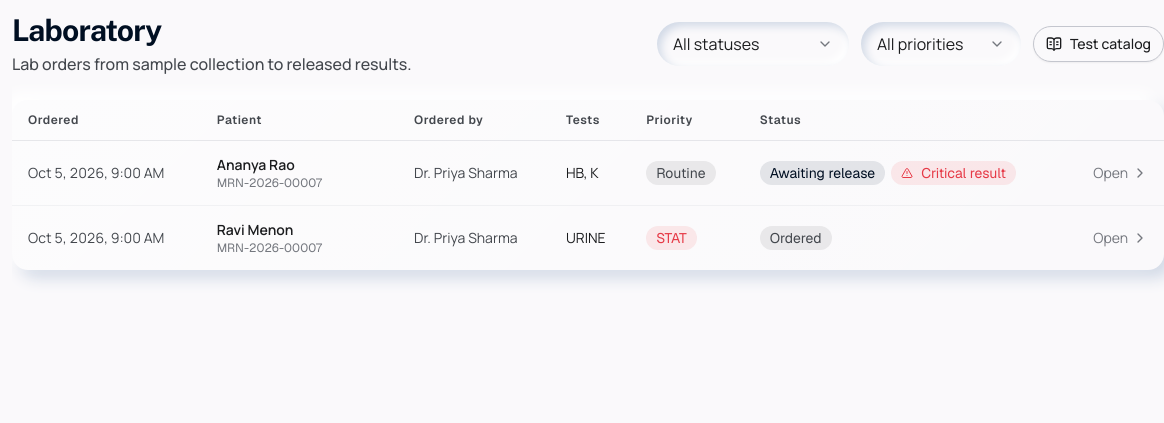
lab worklist › filters by status and by priority using the API's own parameters
This screenshot has width=1164, height=423.
Expected: the row "Ananya Rao" is shown, [12,140,1163,206]
Click the dropdown named "Filter by status".
click(753, 44)  # box [657,22,849,66]
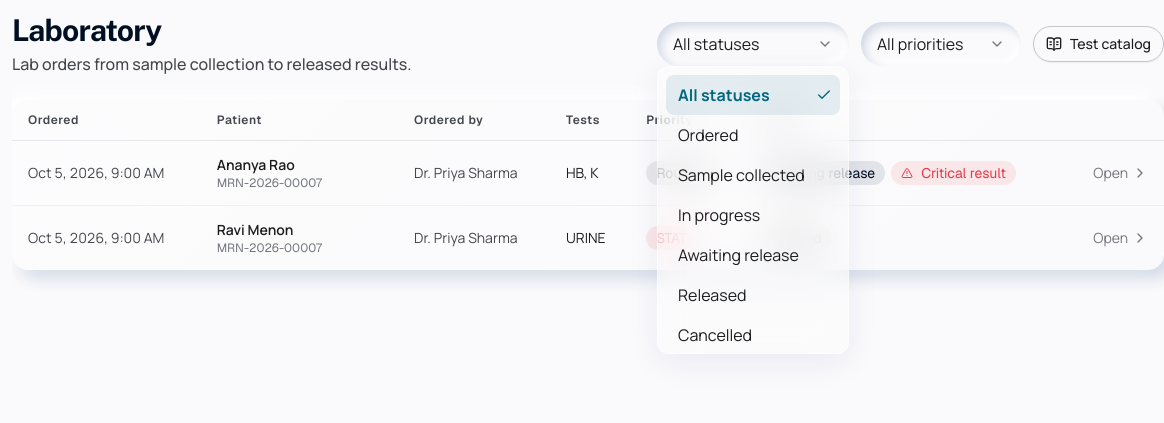
Click the option "Awaiting release".
click(738, 255)  # box [678,244,799,266]
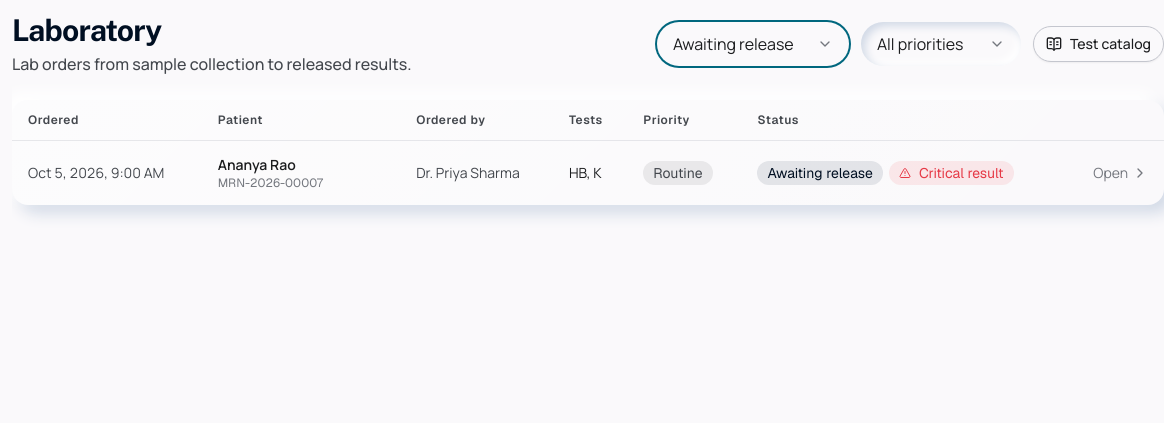
Expected: the text "Ravi Menon" is gone
Click the dropdown named "Filter by priority".
click(941, 44)  # box [861,22,1021,66]
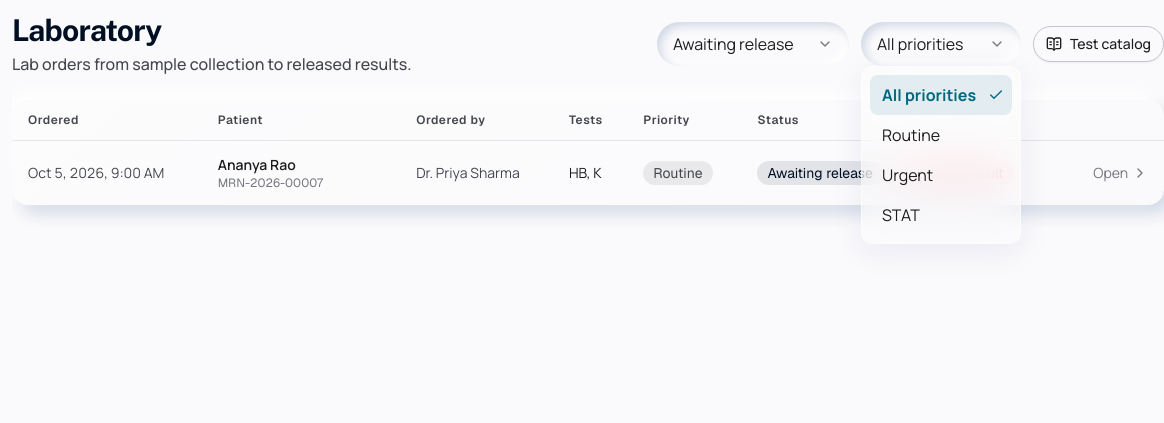
Click the option "STAT".
click(901, 215)  # box [882,204,920,226]
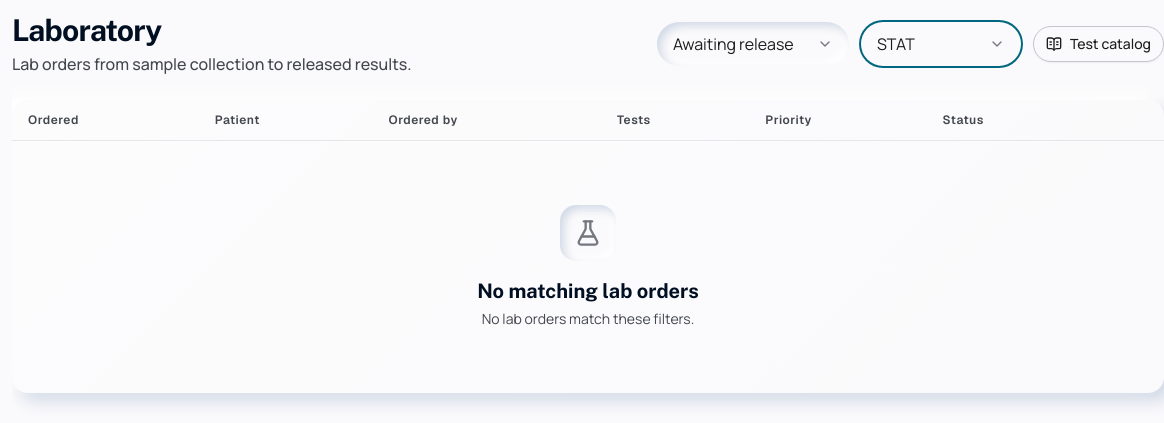
Expected: the text "No matching lab orders" is shown, [477,277,699,305]
